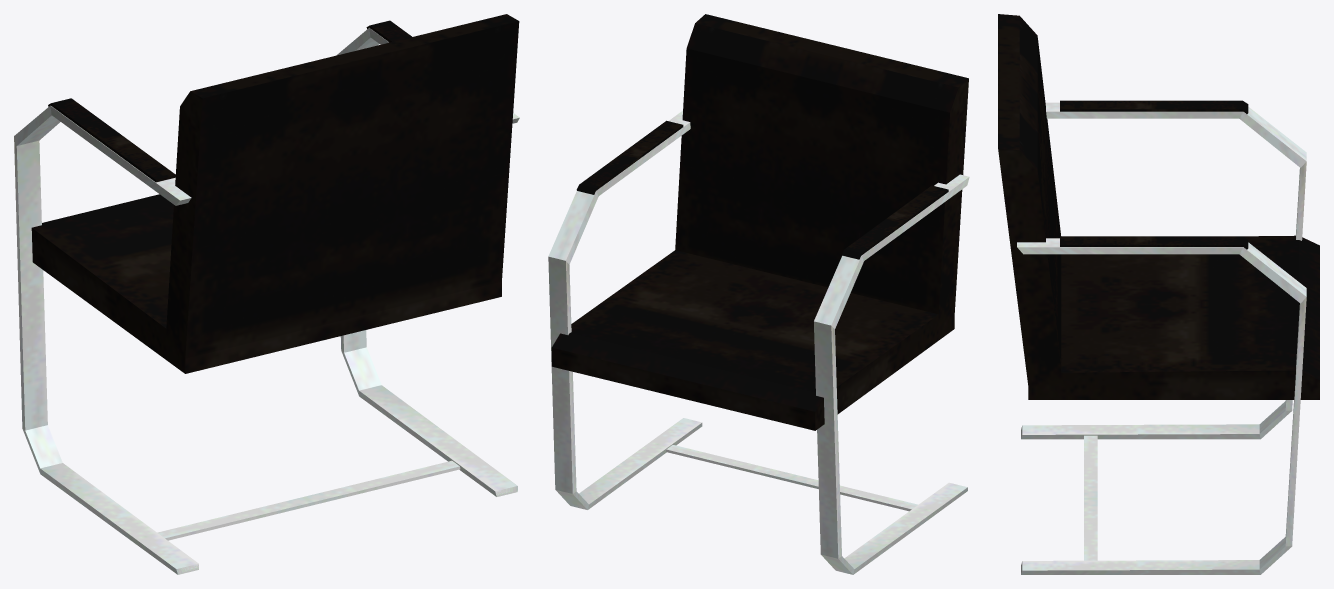
File: conference_chair_black.fbx
3 renders of one model, left to right at view 1: azimuth 30°, elevation 25°; view 2: azimuth 150°, elevation 25°; view 3: azimuth 270°, elevation 25°, orthographic. The views are drawn at different scales.
Visible parts, largest first — view 1: conference_chair_black; view 2: conference_chair_black; view 3: conference_chair_black.
Boxes of the visible parts, x1=… form: conference_chair_black: x1=14, y1=14, x2=519, y2=574; conference_chair_black: x1=548, y1=14, x2=969, y2=574; conference_chair_black: x1=998, y1=14, x2=1319, y2=574.
Bounding box in the file's own units: 74.95 × 101 × 70.18.
